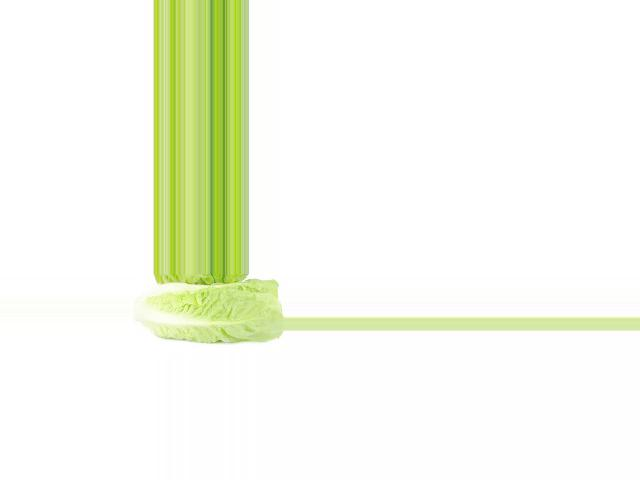lettuce: (134, 281, 284, 353)
